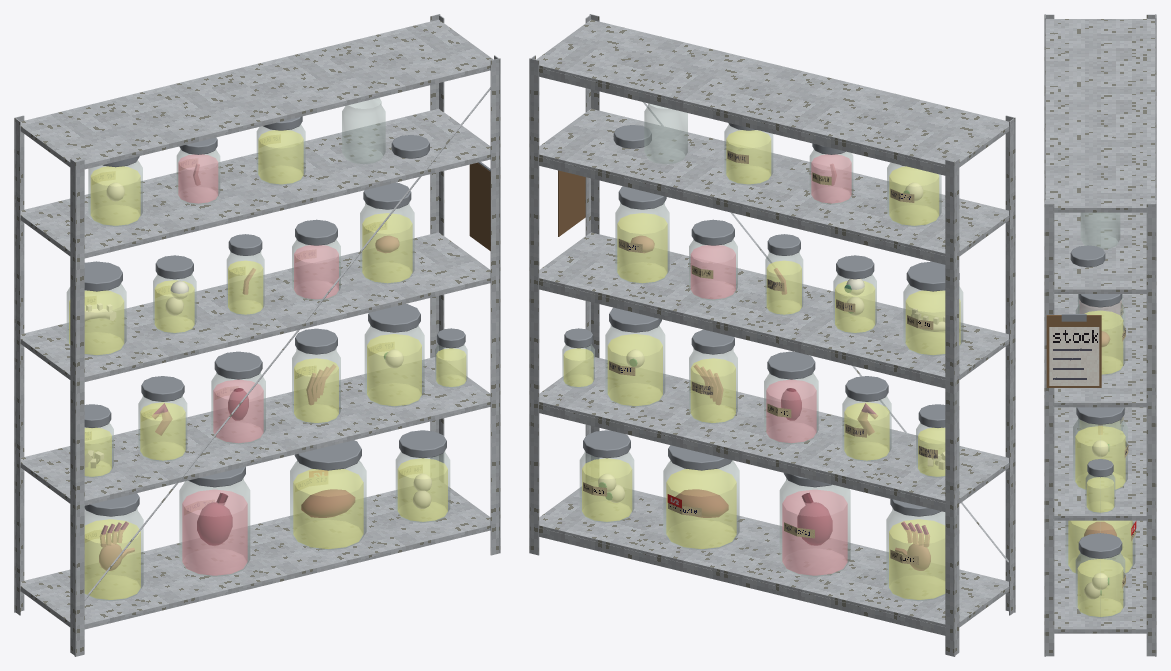
File: s_bev_jarshelf.glb
The picture shows the model from 3 angles, left to right: view 1: azimuth 30°, elevation 25°; view 2: azimuth 150°, elevation 25°; view 3: azimuth 270°, elevation 25°; orthographic projection. The views are drawn at different scales.
Parts seen in each view (by area): view 1: s_bev_jarshelf_mesh; view 2: s_bev_jarshelf_mesh; view 3: s_bev_jarshelf_mesh.
Part boxes in pixels (box(x1,y1,x2,y2)): s_bev_jarshelf_mesh: box(14, 14, 500, 656); s_bev_jarshelf_mesh: box(529, 14, 1015, 656); s_bev_jarshelf_mesh: box(1044, 14, 1156, 656).
Size of what is drawn, in the model's own units: 1.81 by 2 by 0.45.
11 materials, 8 textured.
